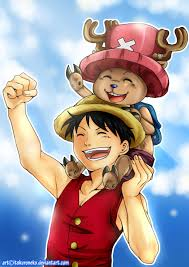chopper: (77, 16, 189, 104)
luffy: (51, 94, 148, 174)
